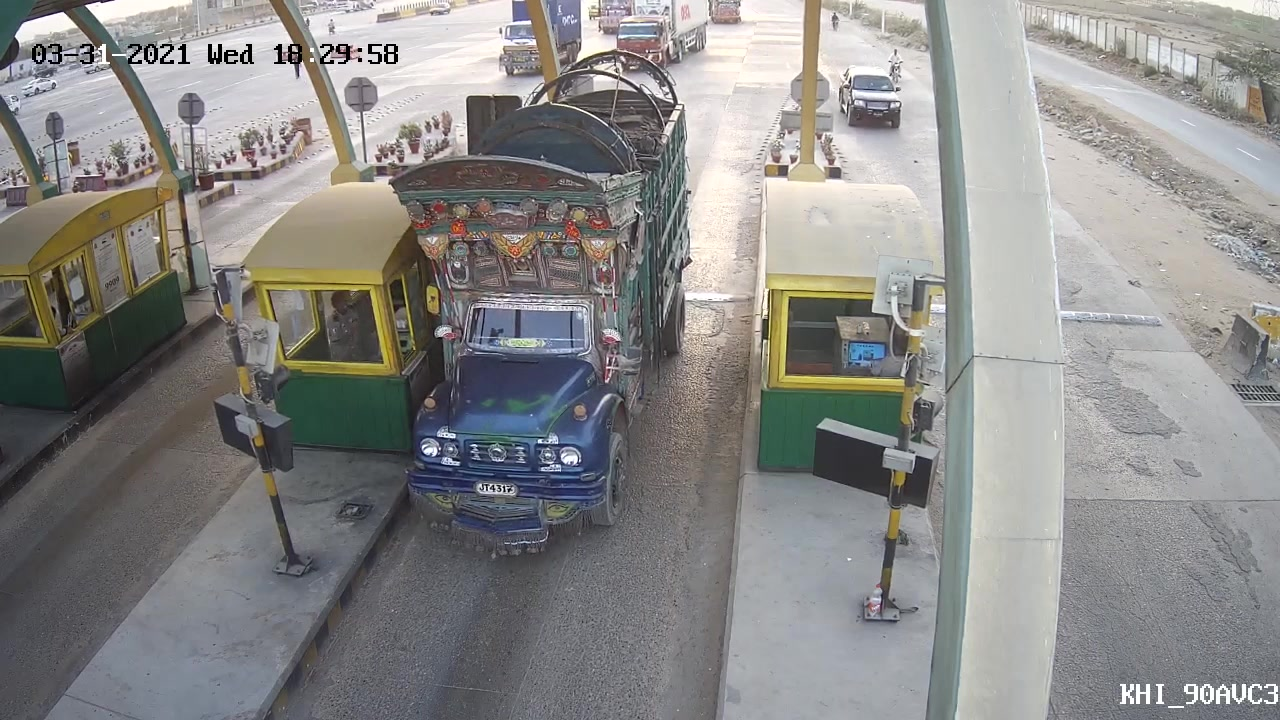F5: (404, 52, 694, 542)
